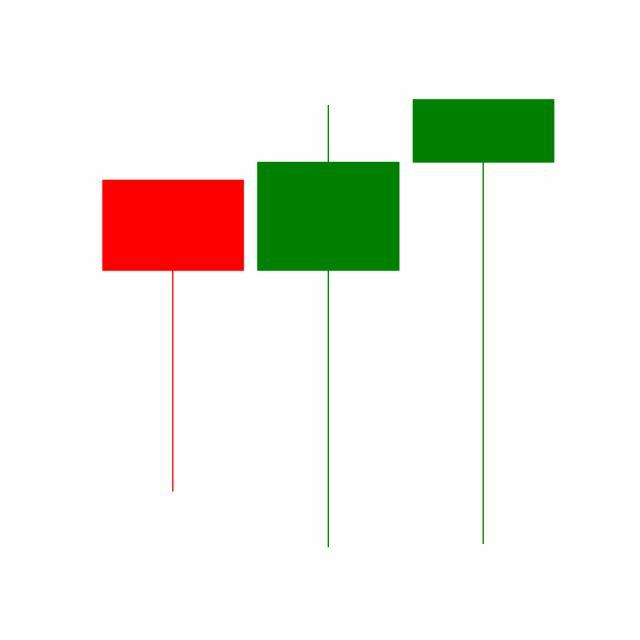Hanging Man: (406, 95, 562, 550)
